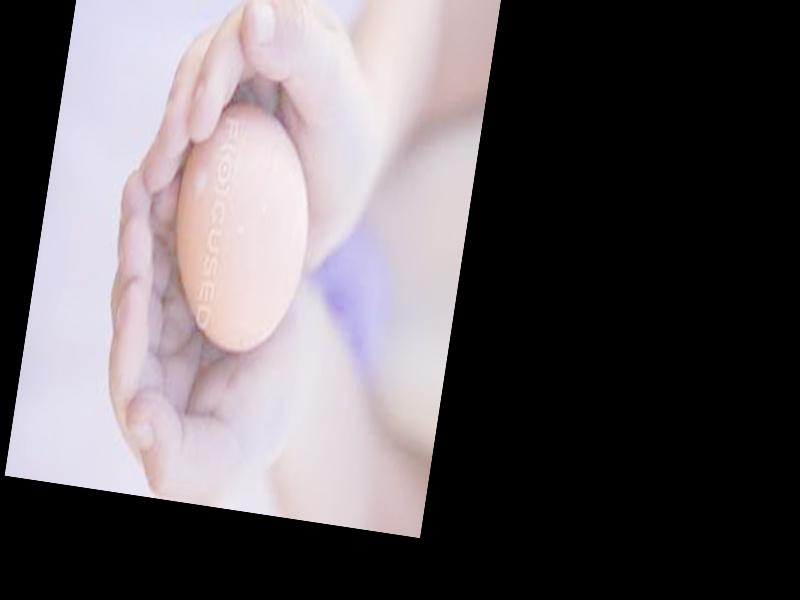Eggs: (156, 99, 326, 364)
